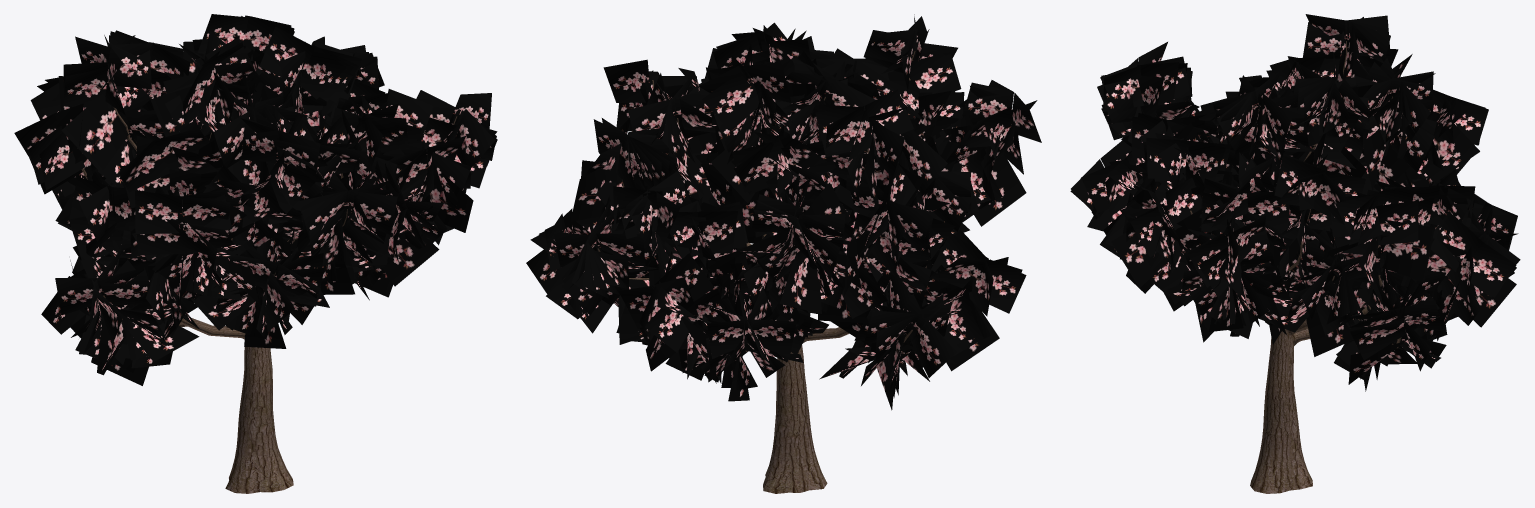
Rendered from sakura_hi.glb.
3 renders of one model, left to right at view 1: azimuth 30°, elevation 25°; view 2: azimuth 150°, elevation 25°; view 3: azimuth 270°, elevation 25°, orthographic. The views are drawn at different scales.
Parts seen in each view (by area): view 1: Sakura; view 2: Sakura; view 3: Sakura.
Boxes of the visible parts, left/top/right/bottom form: Sakura: left=14, top=14, right=497, bottom=493; Sakura: left=526, top=14, right=1041, bottom=493; Sakura: left=1070, top=14, right=1520, bottom=493.
Size of the model in its own units: 10.16 by 10.5 by 10.11.
2 materials, 2 textured.
